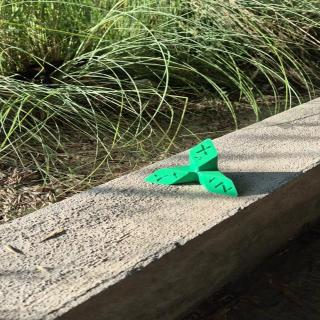eje: (143, 138, 239, 198)
